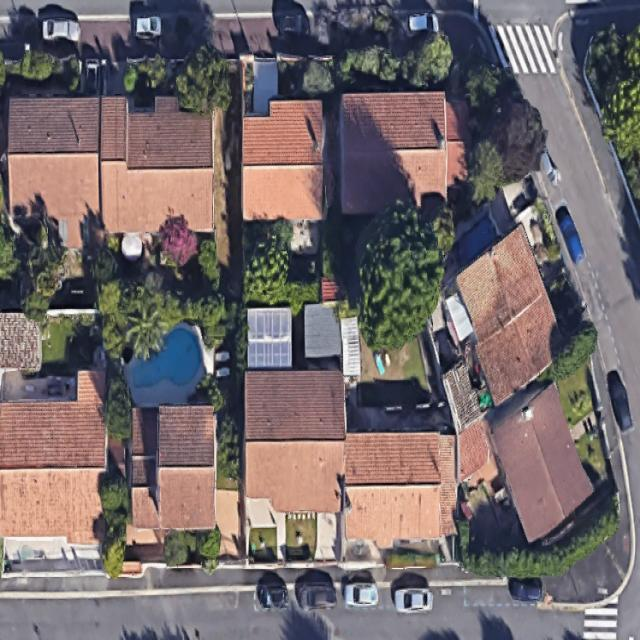maison: (440, 383, 600, 556), (440, 225, 576, 405), (0, 369, 107, 546), (338, 89, 476, 212), (100, 95, 212, 230), (244, 370, 345, 512), (7, 98, 99, 247), (344, 431, 454, 550), (130, 407, 217, 526), (243, 99, 322, 220), (0, 313, 39, 368)
